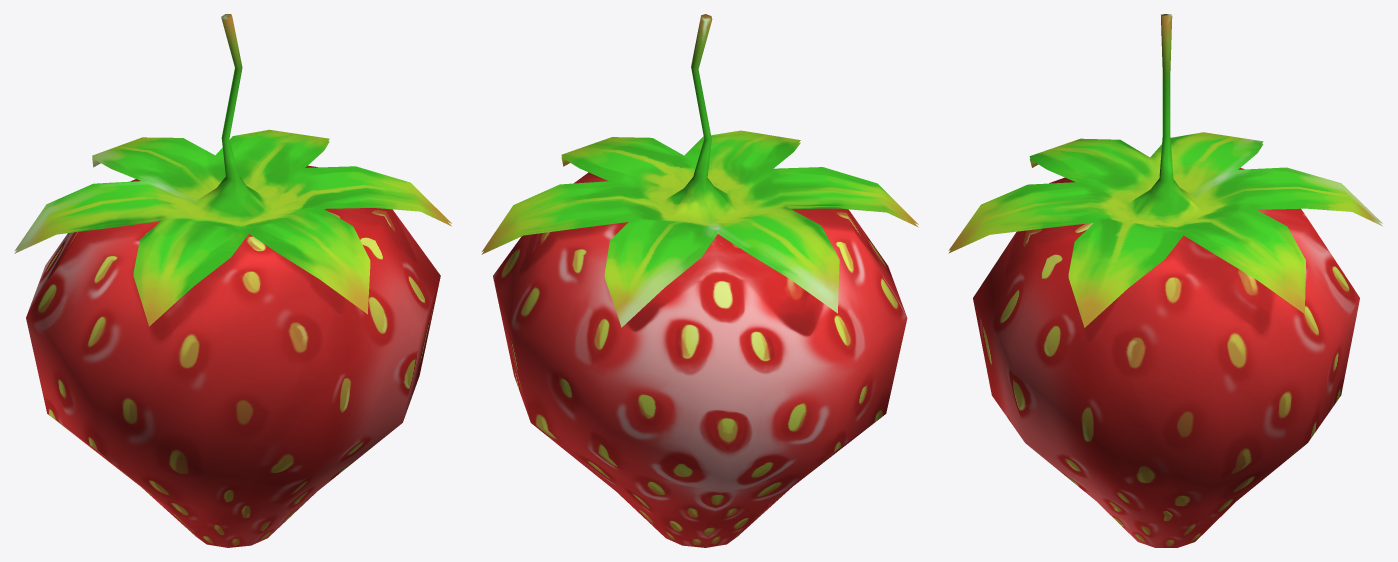
File: strawberry.fbx
3 views of the same model, side by side, from view 1: azimuth 30°, elevation 25°; view 2: azimuth 150°, elevation 25°; view 3: azimuth 270°, elevation 25° (orthographic).
Visible parts, largest first — view 1: strawberry; view 2: strawberry; view 3: strawberry.
Boxes of the visible parts, <box> form: strawberry: <box>14,14,451,547</box>; strawberry: <box>481,14,918,547</box>; strawberry: <box>948,14,1382,547</box>.
Size of the model in its own units: 1.52 by 2.14 by 1.62.
